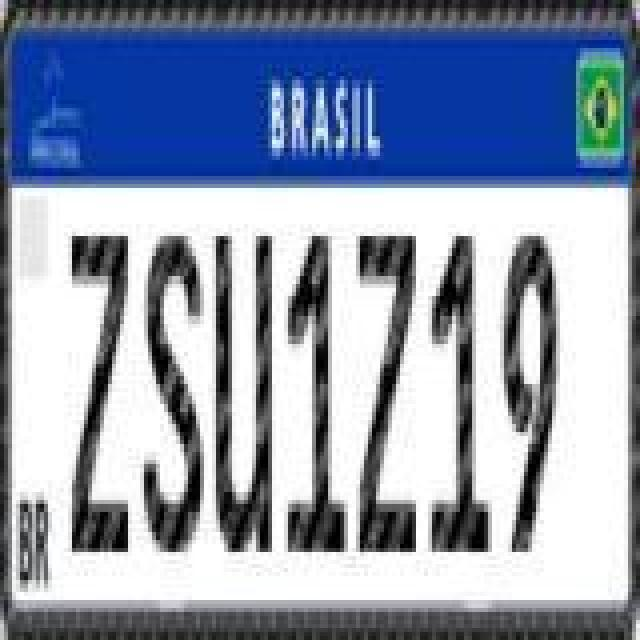1: (282, 226, 350, 558), (428, 226, 492, 558)
9: (496, 224, 560, 560)
S: (142, 224, 210, 560)
U: (212, 226, 276, 558)
Z: (72, 226, 136, 558), (352, 226, 416, 558)
